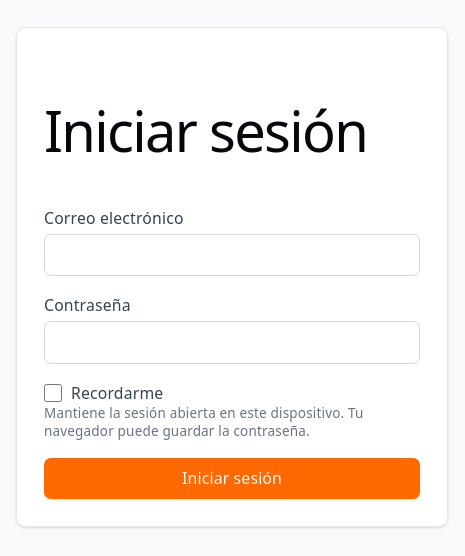
Test: LoginScreen › shows a single generic message on failure without leaking raw errors
The image size is (465, 556).
Type "vendedor@example.com" into the field labelled "Correo electrónico" at (232, 255), box top-left (44, 234), bottom-right (420, 276)
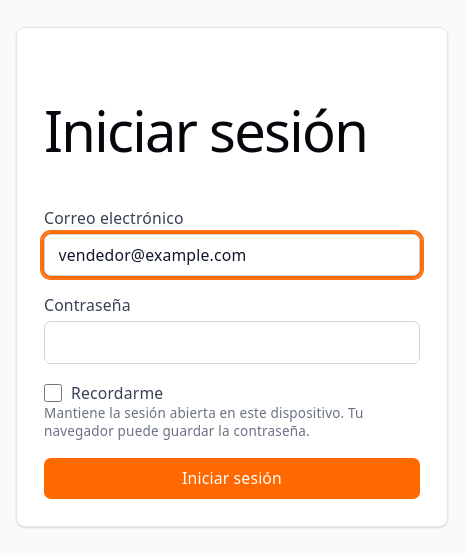
Type "wrong" into the password field labelled "Contraseña" at (232, 342), box top-left (44, 321), bottom-right (420, 364)
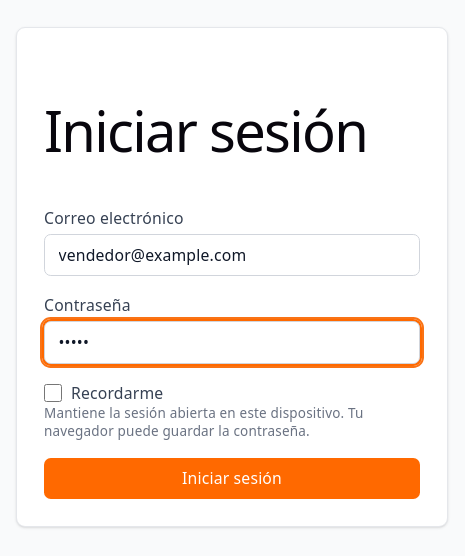
Click the button "Iniciar sesión" at (232, 478), box top-left (44, 458), bottom-right (420, 498)
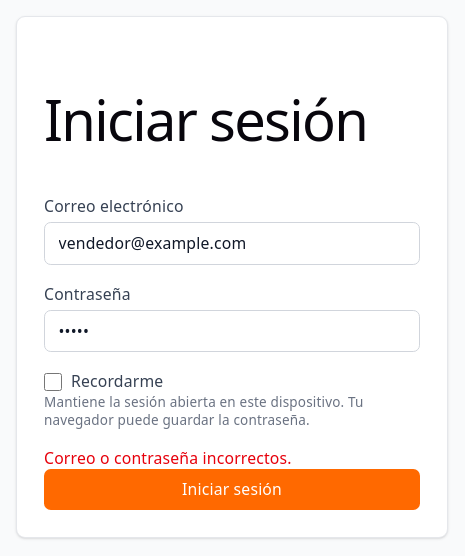
Check: the message does not show "Invalid login credentials", box top-left (44, 447), bottom-right (292, 469)
Check: the message reads "Correo o contraseña incorrectos.", box top-left (44, 447), bottom-right (292, 469)
